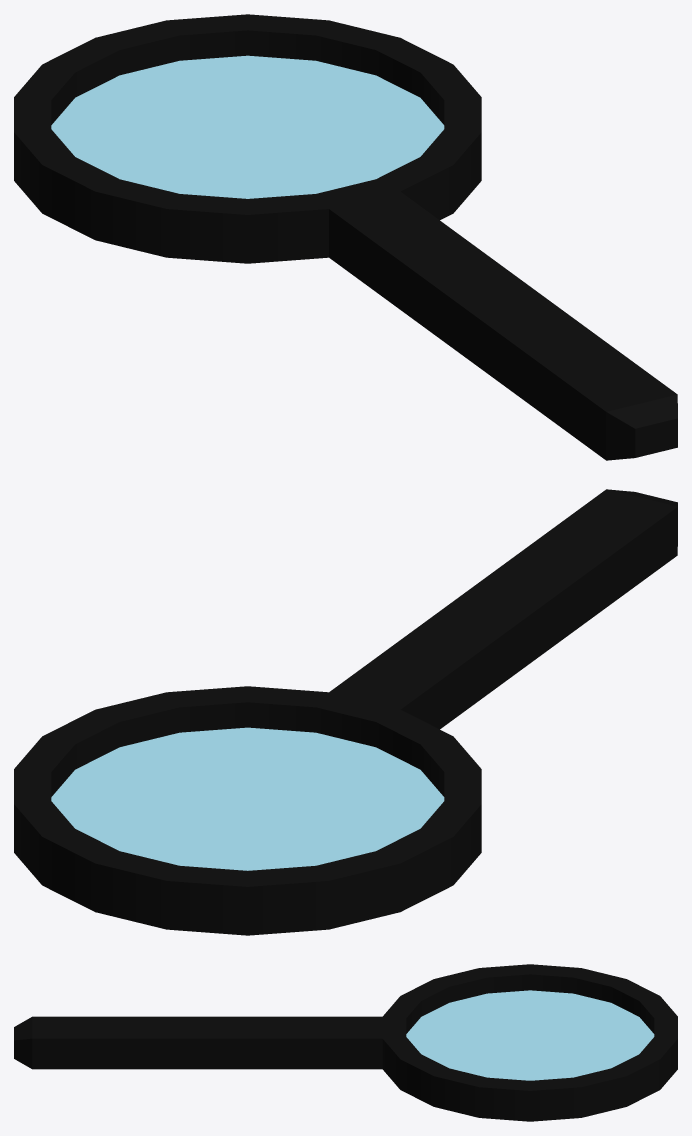
The model's file is magnifyingglass.fbx.
3 renders of one model, top to bottom at view 1: azimuth 30°, elevation 25°; view 2: azimuth 150°, elevation 25°; view 3: azimuth 270°, elevation 25°, orthographic. The views are drawn at different scales.
Parts seen in each view (by area): view 1: Tube001, Cylinder001; view 2: Tube001, Cylinder001; view 3: Tube001, Cylinder001.
Boxes of the visible parts, x1,y1,x2,y2 form: Tube001: [14, 14, 677, 460]; Cylinder001: [51, 55, 444, 198]; Tube001: [14, 489, 677, 935]; Cylinder001: [51, 727, 444, 870]; Tube001: [14, 964, 677, 1121]; Cylinder001: [406, 990, 654, 1080].
Bounding box in the file's own units: 48.74 × 5.52 × 108.
